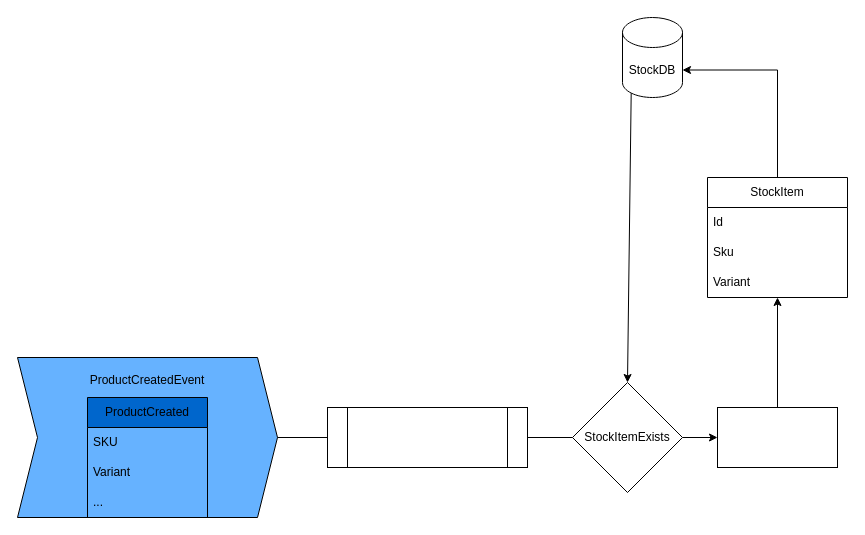
Image size: 865x535. Some labels were removed from this diagram. Each missing label, with the box of its shape:
Create new StockItem: (716, 406, 838, 468)
CreateStockItemCommand SKU/Variant: (326, 406, 528, 468)
